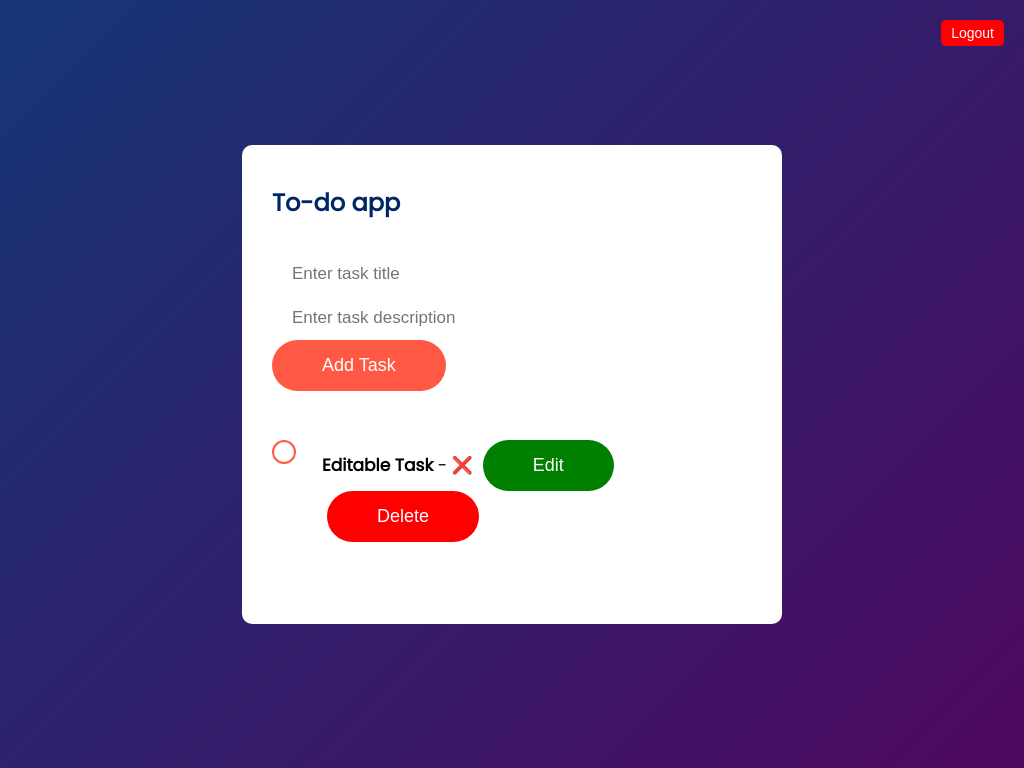
Scenario: Todos Component › allows editing a task
The width and height of the screenshot is (1024, 768).
Click the button "Edit" at (548, 465), box [483,440,614,490]
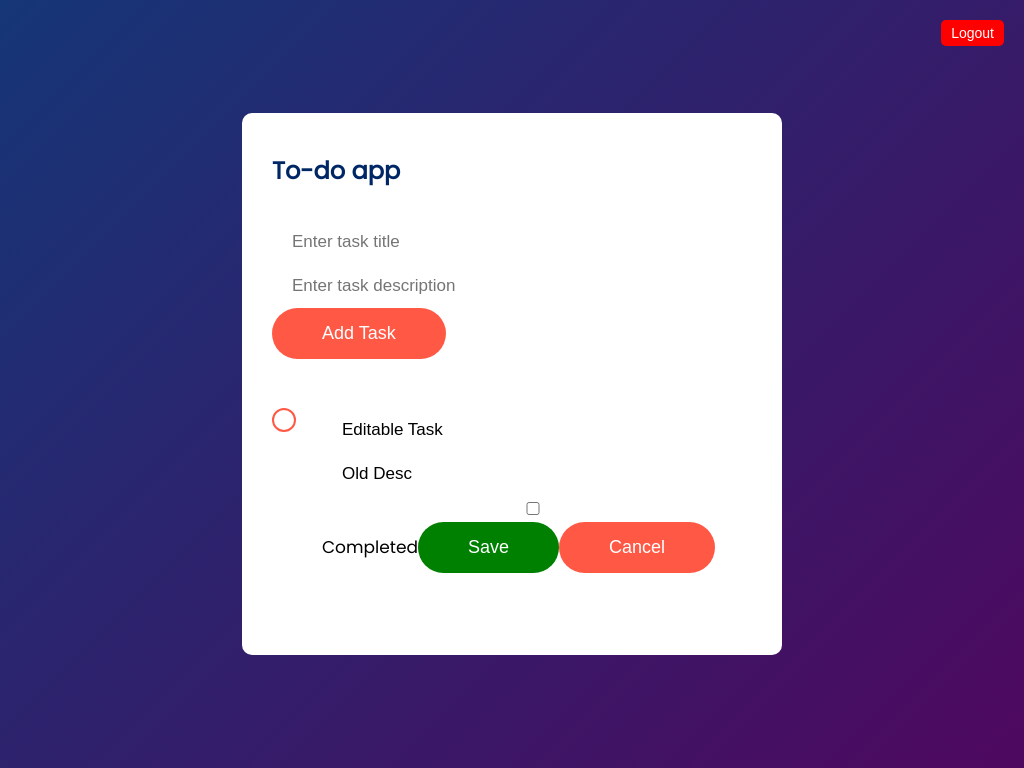
Replace the text in the 1st field showing "Editable Task" with "Updated Task" at (533, 430), box [322,408,744,452]
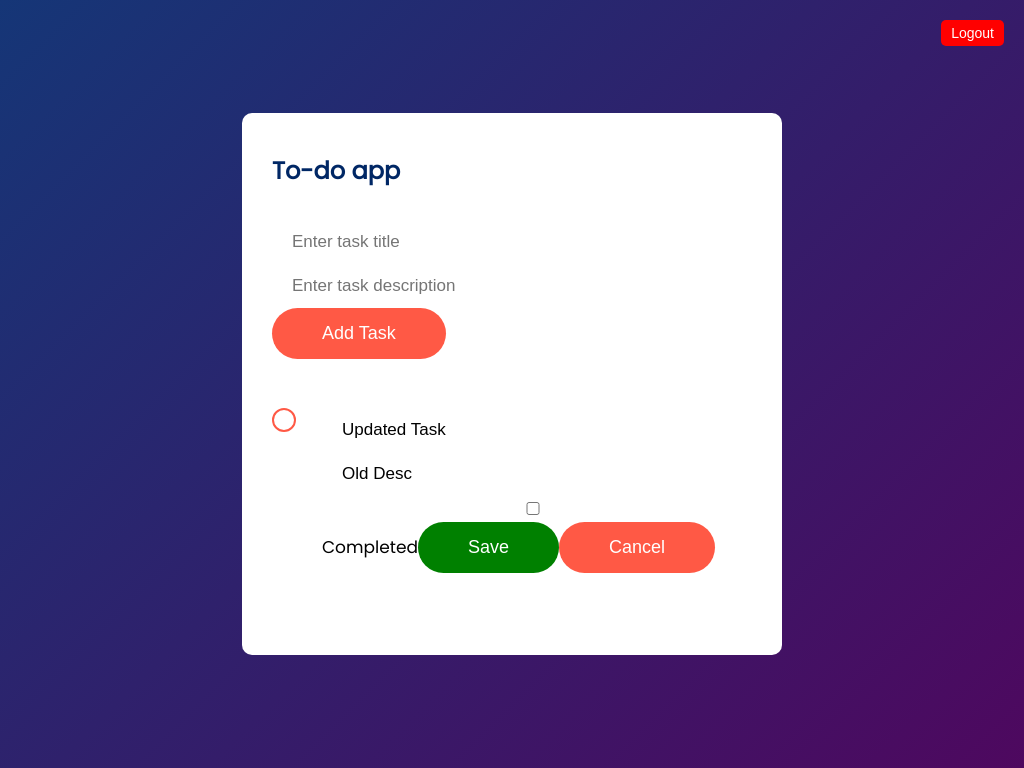
Replace the text in the 2nd field showing "Old Desc" with "Updated Desc" at (533, 474), box [322,452,744,496]
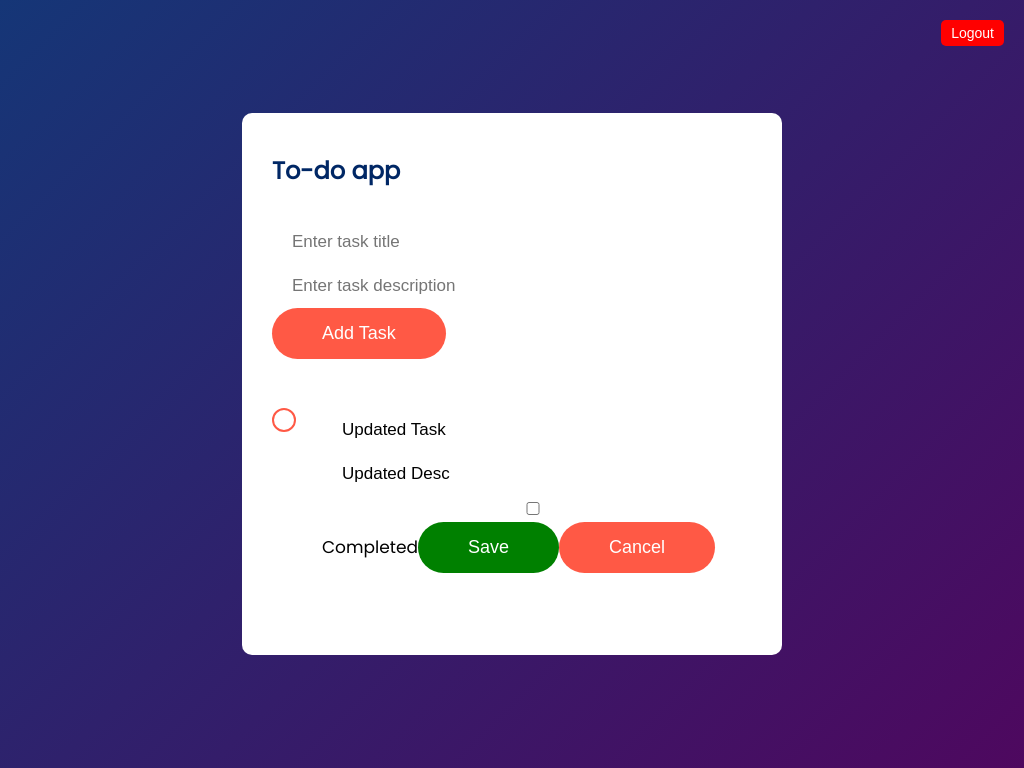
Click the button "Save" at (488, 548), box [418,522,559,573]
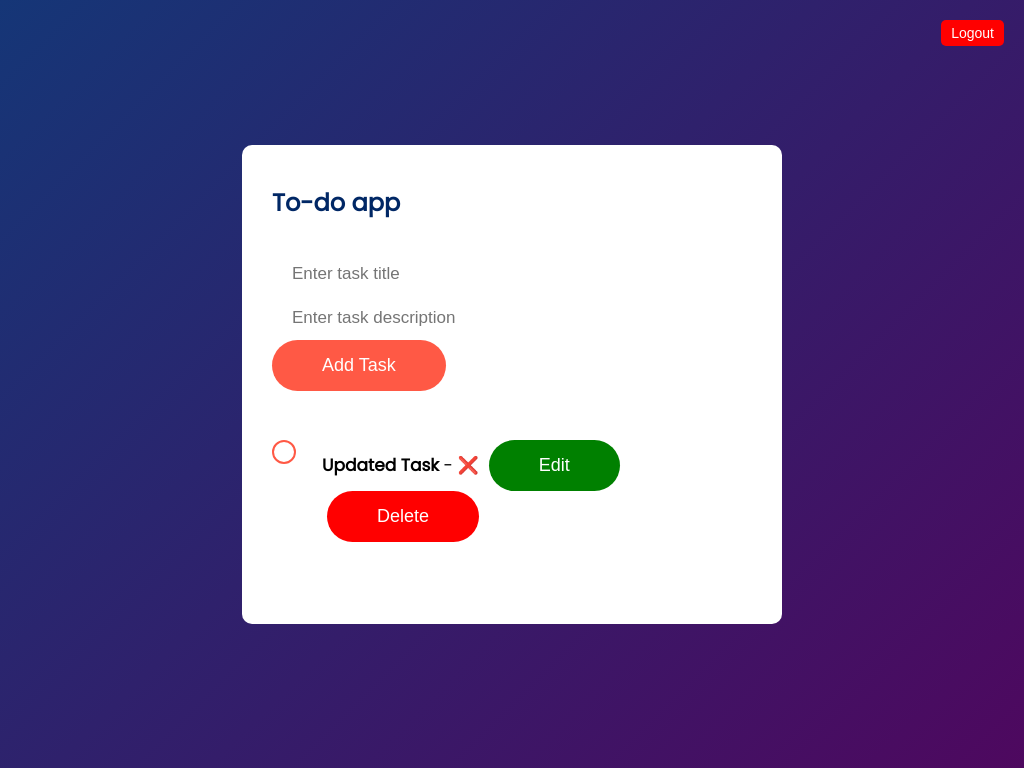
Check: the text "Updated Task" is shown, box [322,452,439,476]
